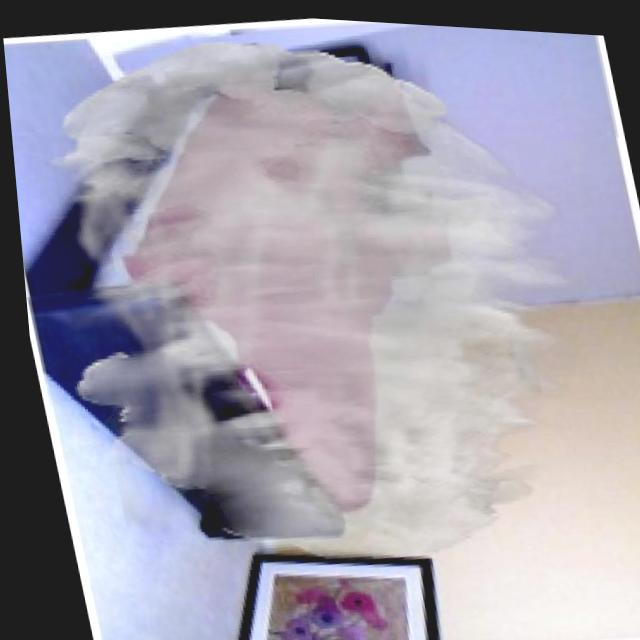Smoke: (4, 20, 627, 576)
